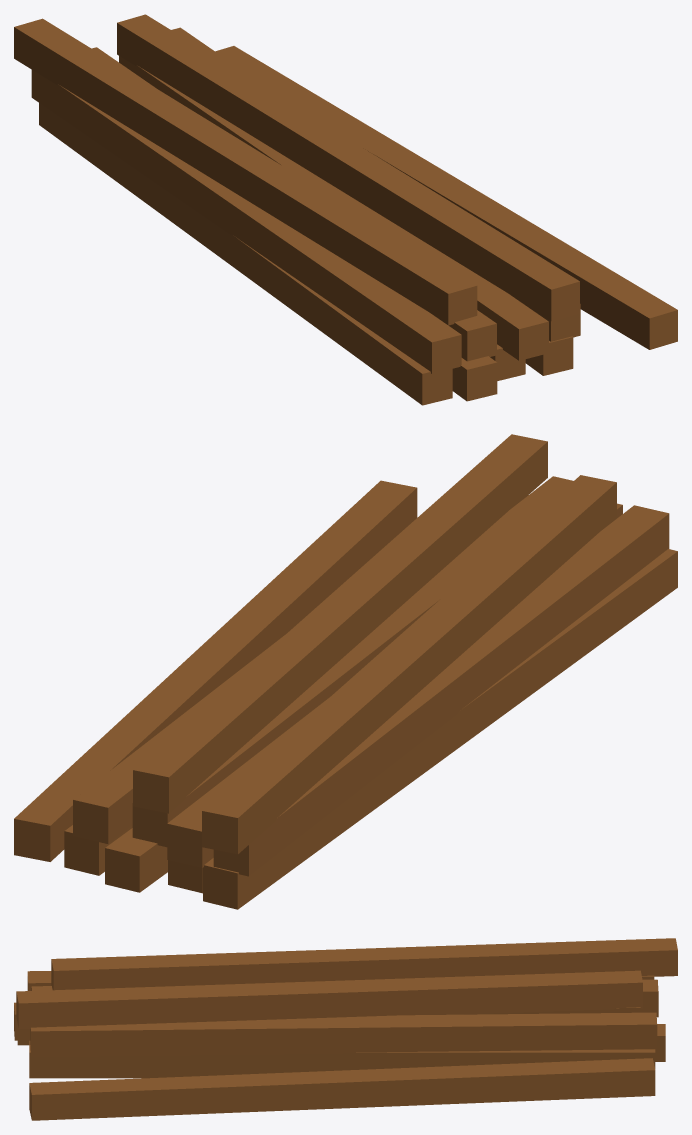
3 renders of one model, top to bottom at view 1: azimuth 30°, elevation 25°; view 2: azimuth 150°, elevation 25°; view 3: azimuth 270°, elevation 25°, orthographic. The views are drawn at different scales.
Visible parts, largest first — view 1: A-19; view 2: A-19; view 3: A-19.
Part boxes in pixels (x1,y1,x2,y2): A-19: (14, 14, 677, 405); A-19: (14, 434, 677, 909); A-19: (14, 938, 677, 1120).
Size of the model in its own units: 419 by 136 by 1093.
